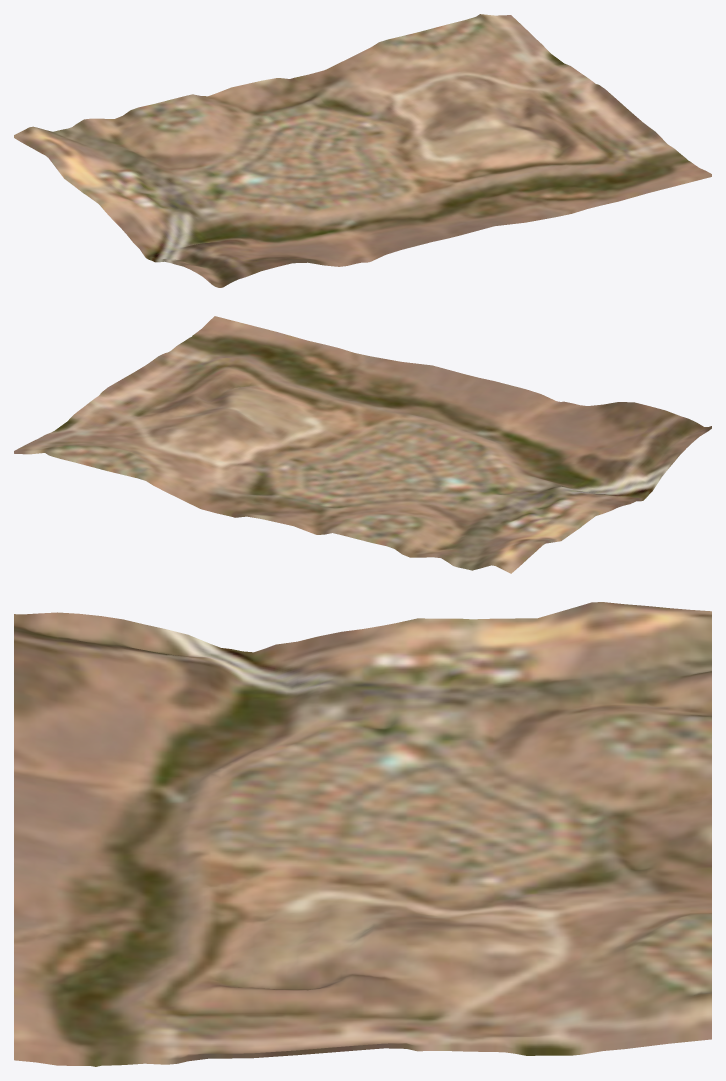
File: terrain_r5_c2_lod1.glb
3 renders of one model, top to bottom at view 1: azimuth 30°, elevation 25°; view 2: azimuth 150°, elevation 25°; view 3: azimuth 270°, elevation 25°, orthographic. The views are drawn at different scales.
Visible parts, largest first — view 1: terrain_r5_c2_lod1; view 2: terrain_r5_c2_lod1; view 3: terrain_r5_c2_lod1.
Part boxes in pixels (x1=…): terrain_r5_c2_lod1: x1=14, y1=14, x2=711, y2=287; terrain_r5_c2_lod1: x1=14, y1=316, x2=711, y2=573; terrain_r5_c2_lod1: x1=14, y1=602, x2=711, y2=1066.
Size of the model in its own units: 1125 by 73.06 by 787.
Materials: 1 (1 with a texture image).
